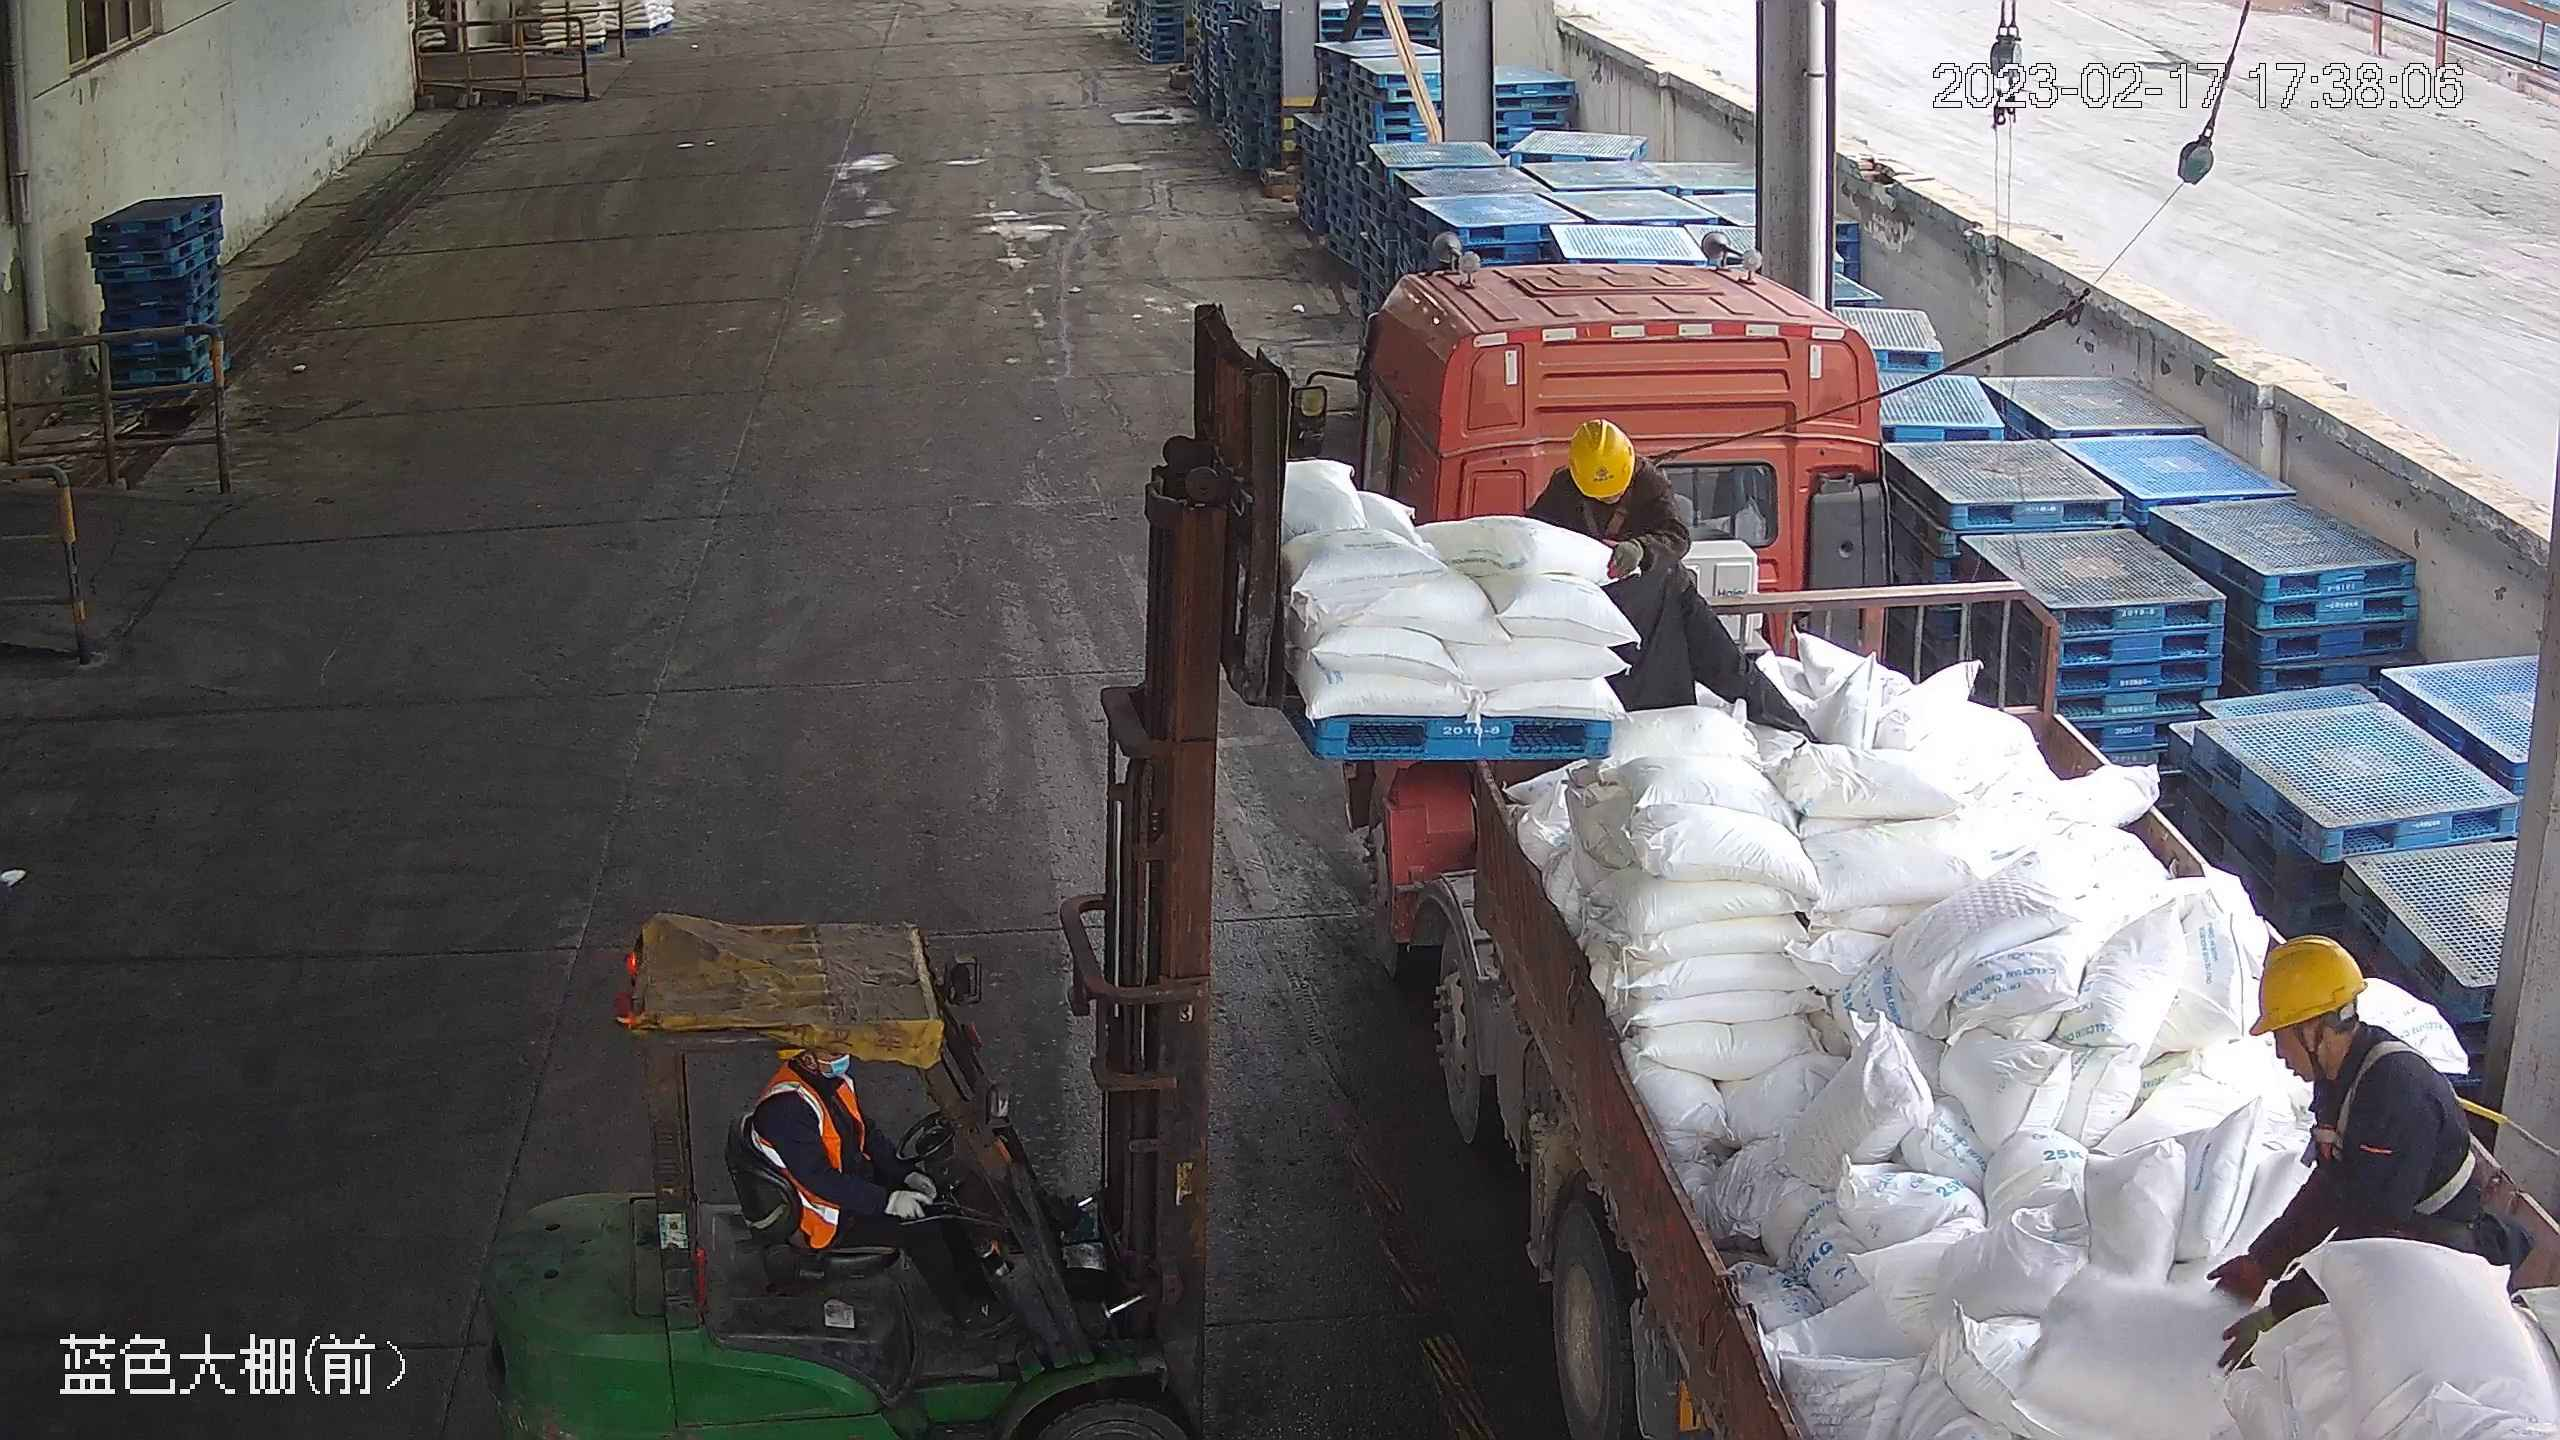belt: (2320, 1036, 2489, 1217), (1575, 467, 1649, 544)
head: (2240, 937, 2446, 1138), (1538, 415, 1680, 522), (749, 1039, 879, 1154)
helmet: (2247, 935, 2368, 1030), (1567, 415, 1636, 498)
people: (1519, 417, 1764, 744), (743, 1034, 994, 1342)
truck: (1318, 192, 2557, 1439)
